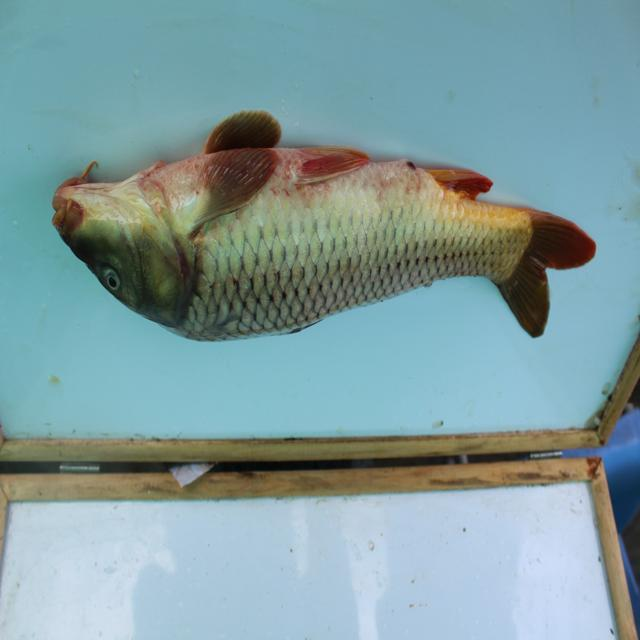CommonCarp: (42, 109, 596, 360)
